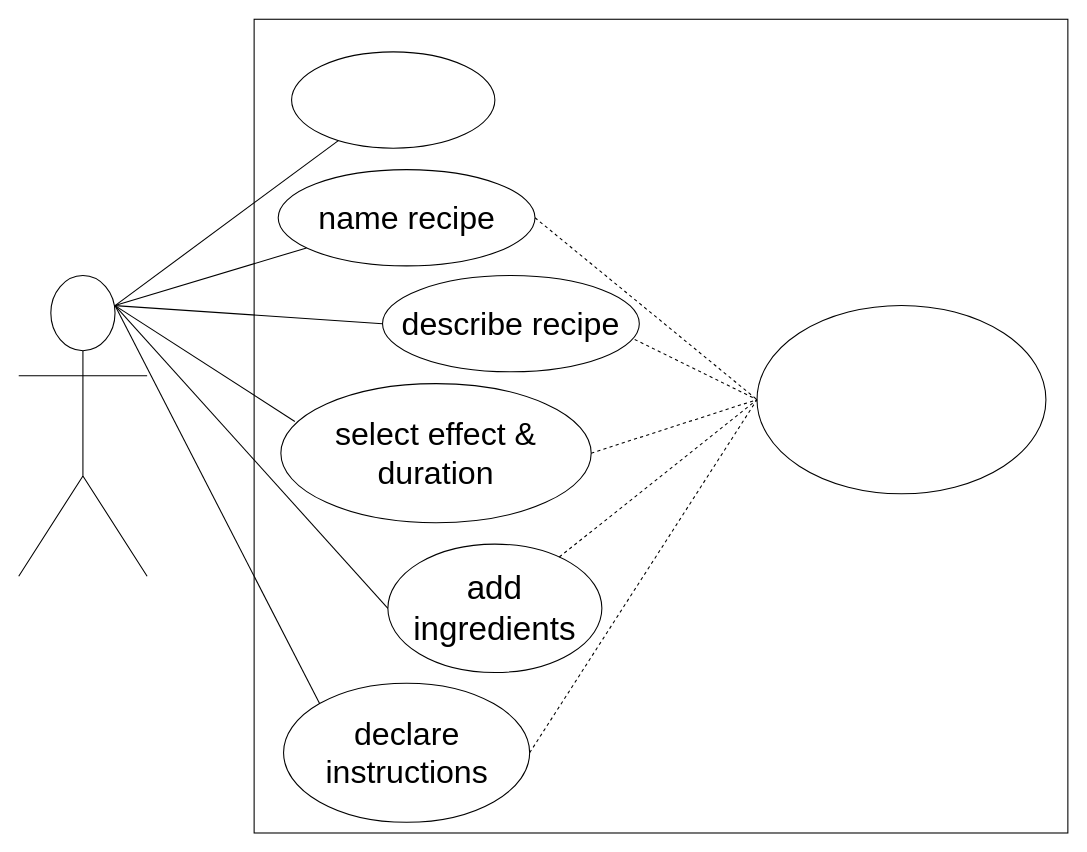
This 1087x852 diagram has some shape labels left out. Each missing label, with the centre of its shape:
"display final recipe + full price" goes at pixel 901 399.
"start" goes at pixel 393 99.
